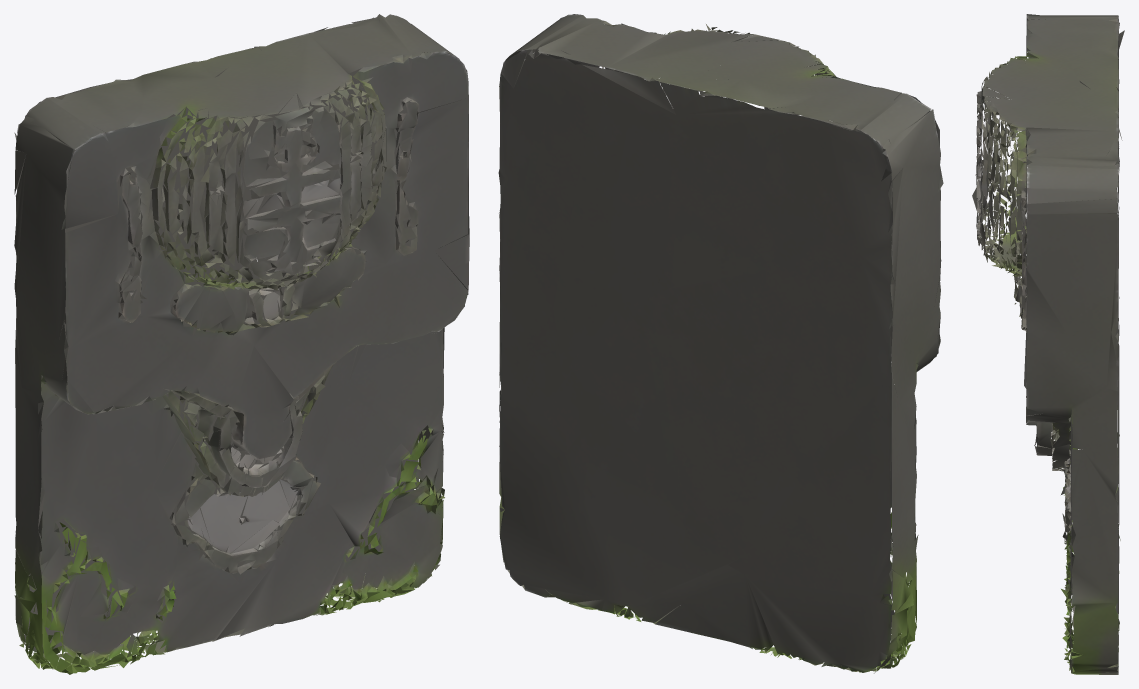
The model's file is Lab_RuneStele.glb.
The picture shows the model from 3 angles, left to right: view 1: azimuth 30°, elevation 25°; view 2: azimuth 150°, elevation 25°; view 3: azimuth 270°, elevation 25°; orthographic projection. The views are drawn at different scales.
Visible parts, largest first — view 1: Lab_RuneStele; view 2: Lab_RuneStele; view 3: Lab_RuneStele.
Boxes of the visible parts, x1,y1,x2,y2 form: Lab_RuneStele: (14, 14, 469, 674); Lab_RuneStele: (498, 14, 943, 673); Lab_RuneStele: (972, 14, 1124, 674).
Size of the model in its own units: 1.22 by 1.63 by 0.4339.
Materials: 1 (1 with a texture image).
